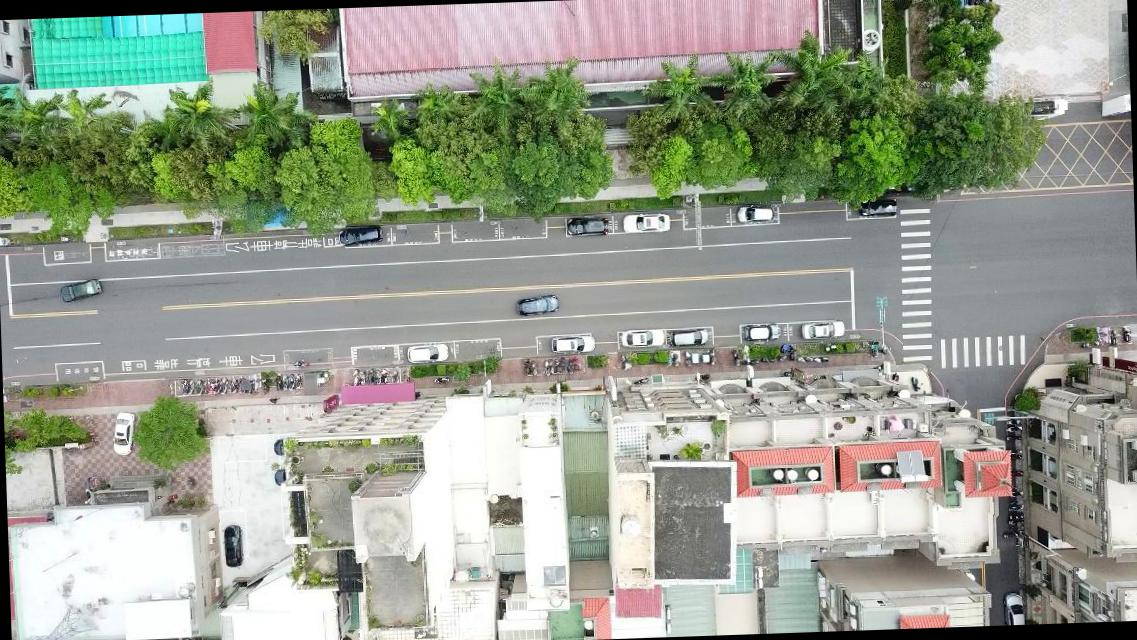vehicle: (110, 409, 136, 456), (58, 277, 104, 303), (337, 224, 384, 249), (620, 212, 669, 234), (550, 332, 596, 355), (406, 342, 448, 367), (514, 294, 559, 317), (564, 216, 609, 239), (222, 524, 243, 568), (618, 328, 664, 348), (800, 321, 845, 341), (855, 198, 898, 218), (1001, 590, 1026, 624), (668, 329, 709, 348), (736, 204, 774, 224), (740, 323, 781, 341)
